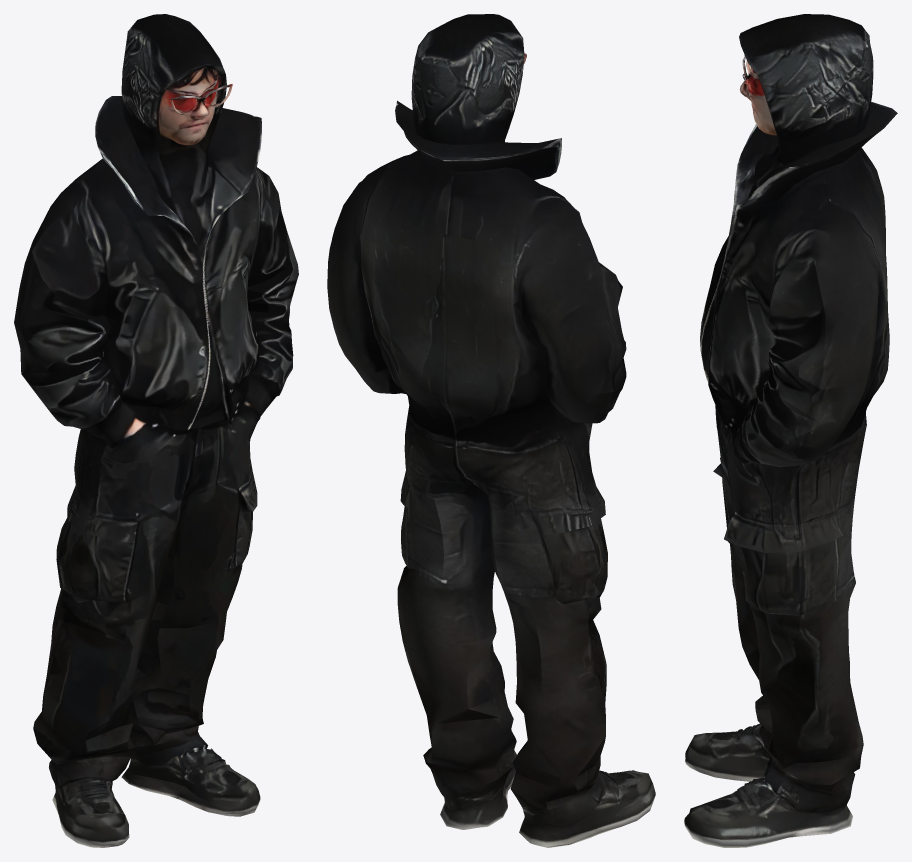
The model's file is gluga.glb.
The picture shows the model from 3 angles, left to right: view 1: azimuth 30°, elevation 25°; view 2: azimuth 150°, elevation 25°; view 3: azimuth 270°, elevation 25°; orthographic projection. The views are drawn at different scales.
Parts seen in each view (by area): view 1: model; view 2: model; view 3: model.
Part boxes in pixels (<box>): model: <box>14,14,298,847</box>; model: <box>327,14,655,847</box>; model: <box>684,14,897,847</box>.
Size of the model in its own units: 0.3777 by 1 by 0.2385.
1 material, 1 textured.
